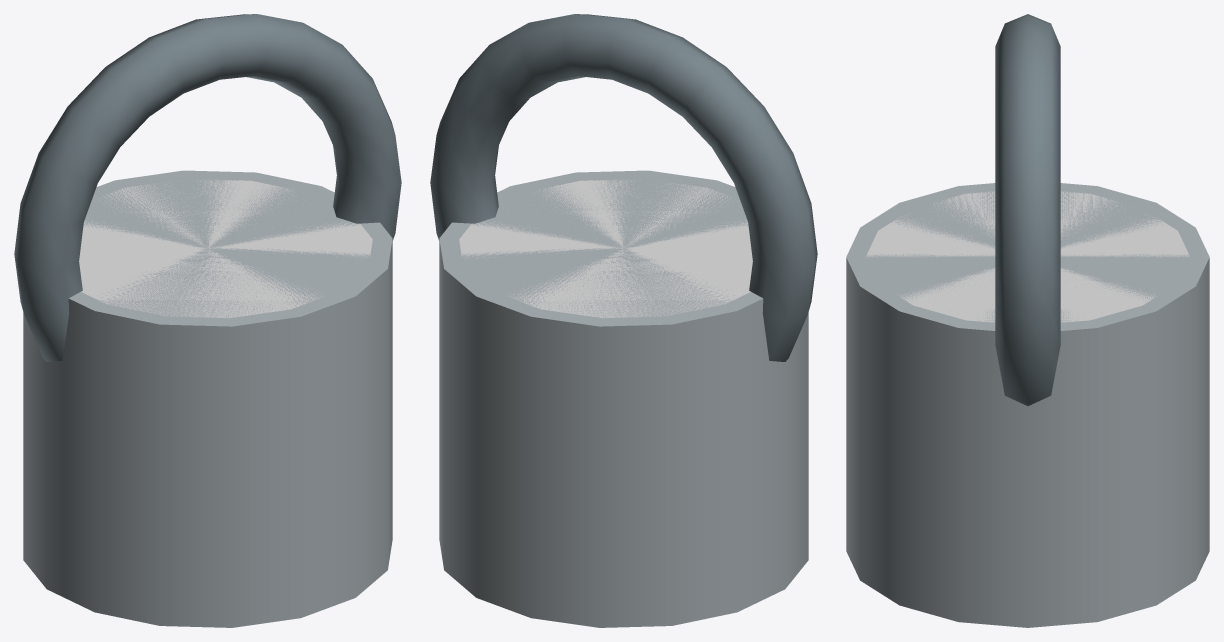
The model's file is bucket.glb.
3 views of the same model, side by side, from view 1: azimuth 30°, elevation 25°; view 2: azimuth 150°, elevation 25°; view 3: azimuth 270°, elevation 25° (orthographic). The views are drawn at different scales.
Visible parts, largest first — view 1: part_000; view 2: part_000; view 3: part_000.
Boxes of the visible parts, <box> form: part_000: <box>14,14,401,627</box>; part_000: <box>430,14,817,627</box>; part_000: <box>846,14,1209,627</box>.
Size of the model in its own units: 0.6608 by 0.8804 by 0.56.
